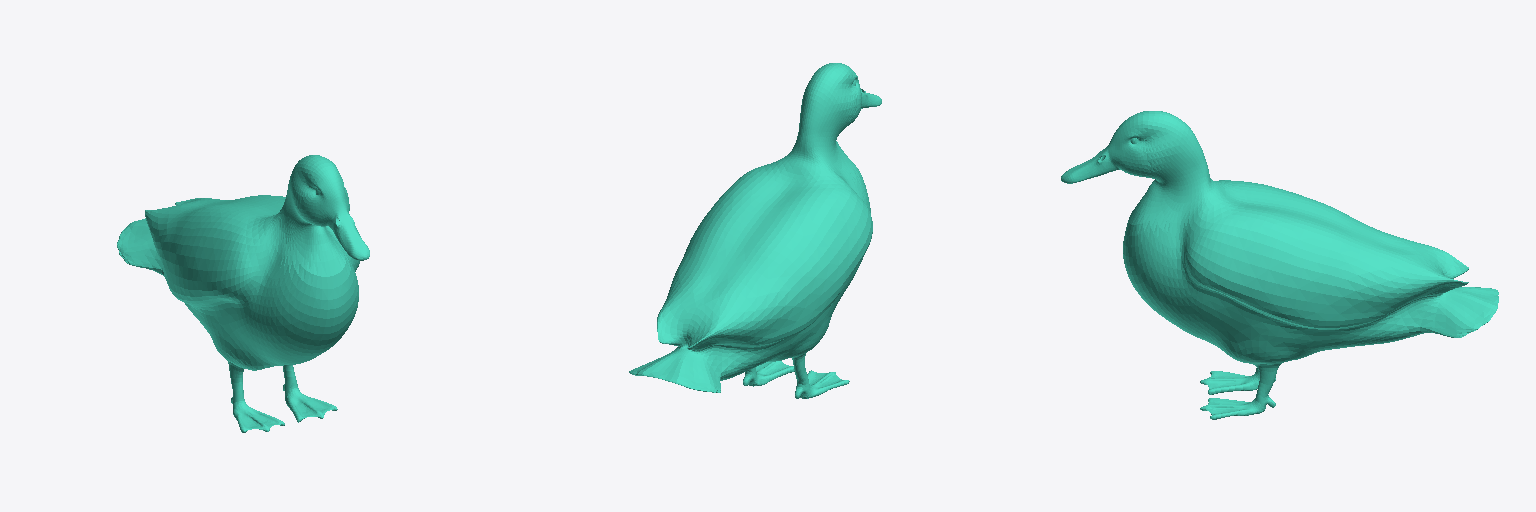
3 renders of one model, left to right at view 1: azimuth 30°, elevation 25°; view 2: azimuth 150°, elevation 25°; view 3: azimuth 270°, elevation 25°, orthographic.
Visible parts, largest first — view 1: 020_Vray; view 2: 020_Vray; view 3: 020_Vray.
Part boxes in pixels (left/top/right/bottom): 020_Vray: left=117, top=155, right=369, bottom=432; 020_Vray: left=629, top=63, right=881, bottom=398; 020_Vray: left=1061, top=111, right=1498, bottom=419.
Bounding box in the file's own units: 199 × 382 × 527.